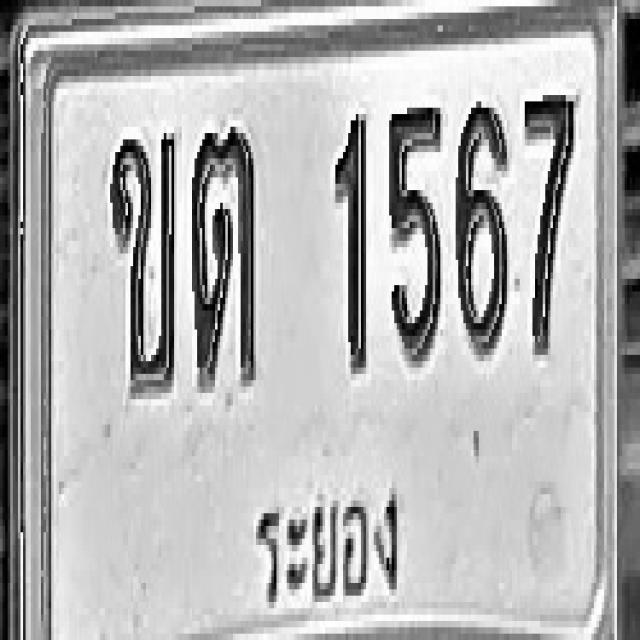1: (333, 108, 366, 374)
11KhorKhai: (109, 127, 175, 393)
30TorTao: (191, 120, 257, 387)
5: (388, 101, 442, 362)
6: (454, 95, 508, 355)
7: (524, 86, 574, 352)
Rayong: (246, 477, 405, 603)
